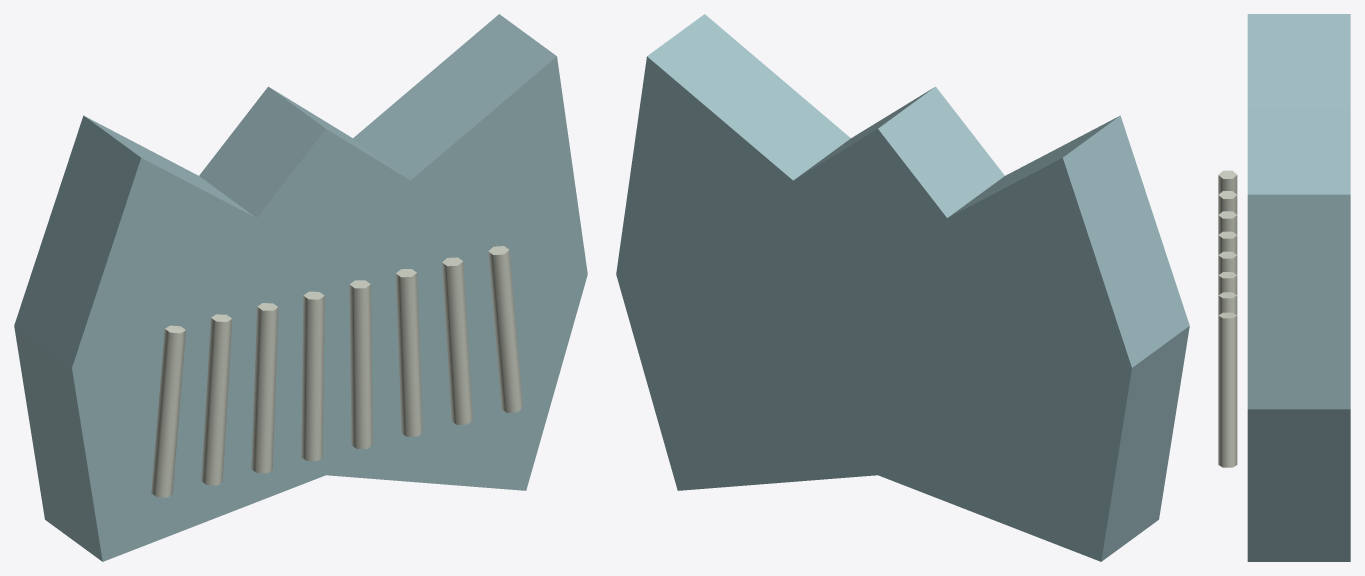
File: frost_fur.fbx
3 views of the same model, side by side, from view 1: azimuth 30°, elevation 25°; view 2: azimuth 150°, elevation 25°; view 3: azimuth 270°, elevation 25° (orthographic). The views are drawn at different scales.
Visible parts, largest first — view 1: frost_fur; view 2: frost_fur; view 3: frost_fur.
Part boxes in pixels (x1,y1,x2,y2): frost_fur: (14, 14, 587, 561); frost_fur: (616, 14, 1189, 561); frost_fur: (1218, 14, 1350, 561).
Size of the model in its own units: 0.67 by 0.53 by 0.167.
